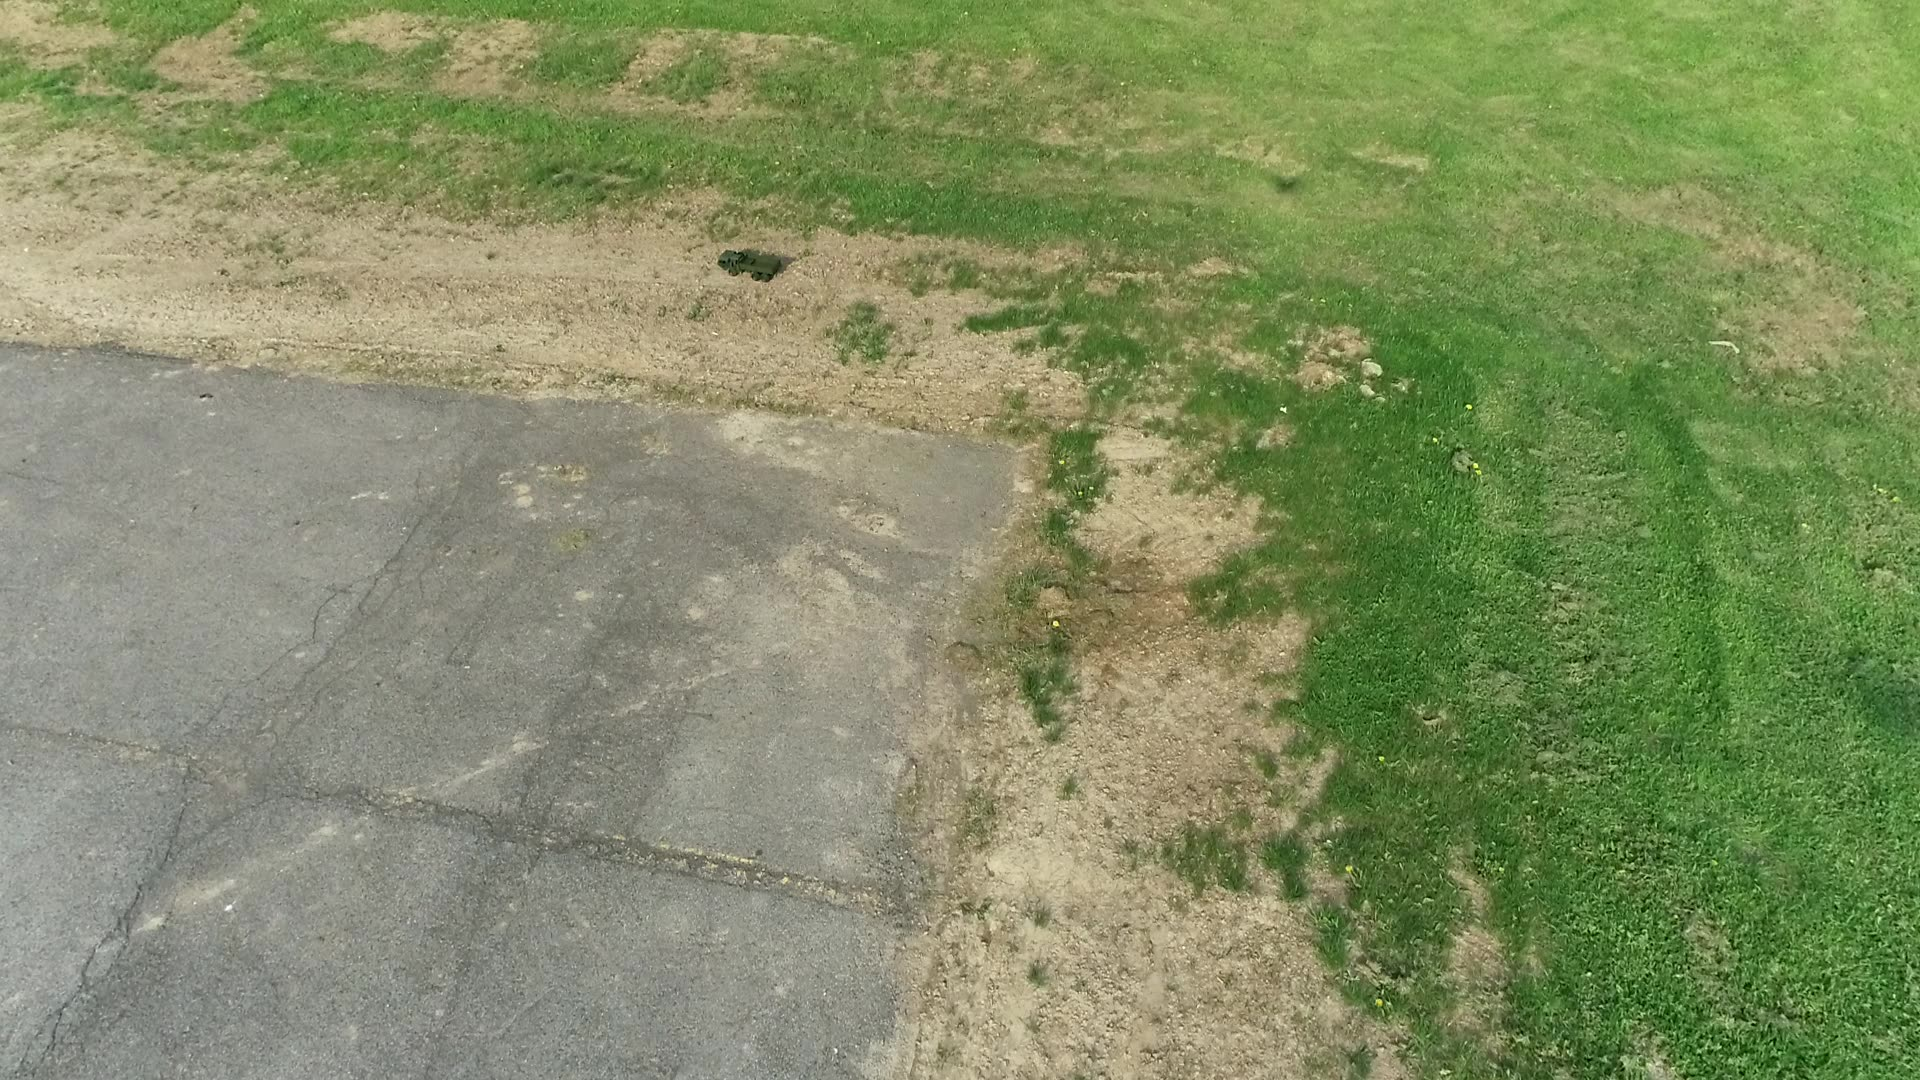transporter9: (713, 248, 785, 284)
